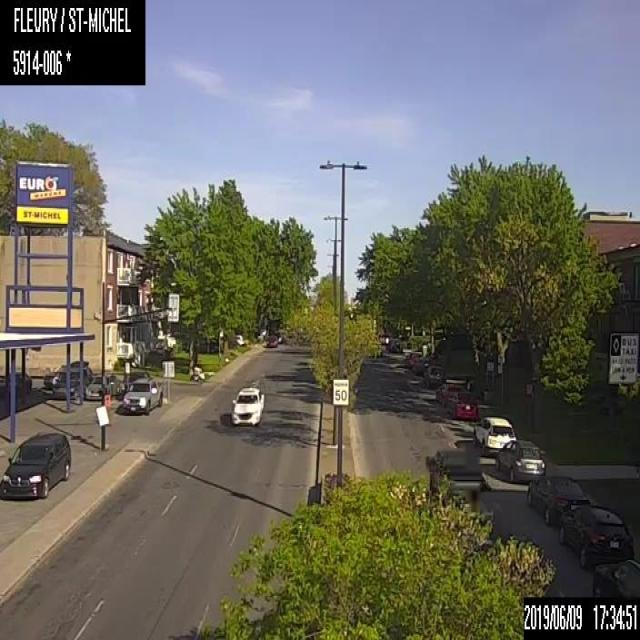vehicle: (0, 429, 71, 502), (557, 503, 635, 569), (525, 474, 589, 526), (493, 436, 545, 484), (428, 446, 487, 486), (470, 415, 516, 454), (591, 560, 639, 596), (121, 376, 163, 416), (231, 383, 264, 425), (82, 371, 122, 401), (446, 391, 478, 421), (52, 368, 84, 396), (434, 382, 466, 406), (422, 365, 448, 388), (43, 366, 64, 386), (388, 338, 404, 353), (266, 334, 278, 346)
